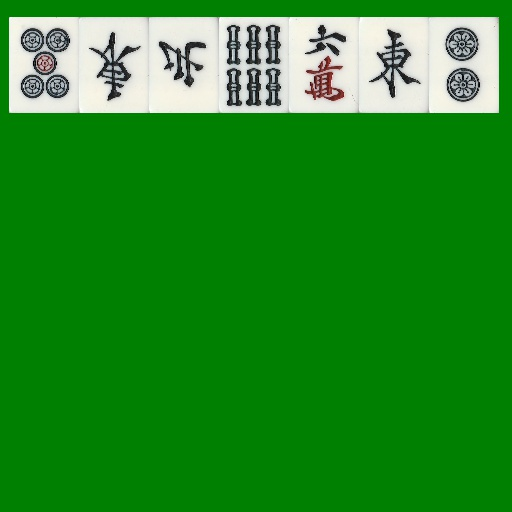2p: (429, 17, 499, 113)
5p: (9, 17, 79, 113)
6m: (289, 17, 359, 113)
6s: (219, 17, 289, 113)
east: (79, 17, 149, 113), (359, 17, 429, 113)
north: (149, 17, 219, 113)
